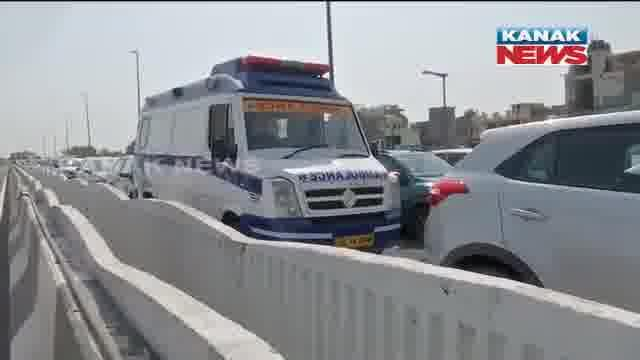AMBULANCE: (118, 51, 410, 249)
